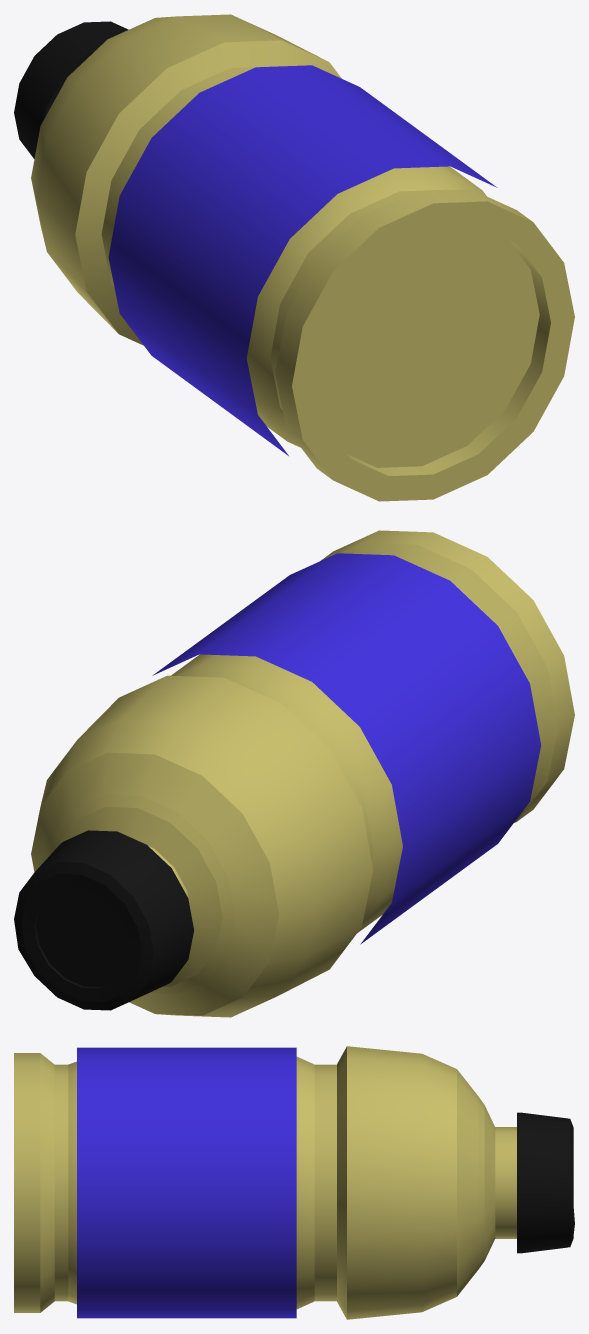
File: juice.glb
3 views of the same model, one above another, from view 1: azimuth 30°, elevation 25°; view 2: azimuth 150°, elevation 25°; view 3: azimuth 270°, elevation 25° (orthographic). The views are drawn at different scales.
Visible parts, largest first — view 1: Cylinder001, Object001, Object002; view 2: Cylinder001, Object001, Object002; view 3: Cylinder001, Object001, Object002.
Boxes of the visible parts, x1,y1,x2,y2 form: Cylinder001: (31, 14, 574, 501); Object001: (108, 65, 497, 455); Object002: (14, 21, 128, 158); Cylinder001: (31, 530, 574, 1017); Object001: (152, 553, 541, 944); Object002: (14, 830, 193, 1010); Cylinder001: (14, 1046, 516, 1319); Object001: (77, 1047, 296, 1318); Object002: (517, 1112, 574, 1253).
Bounding box in the file's own units: 0.0114 × 0.0114 × 0.0233.
